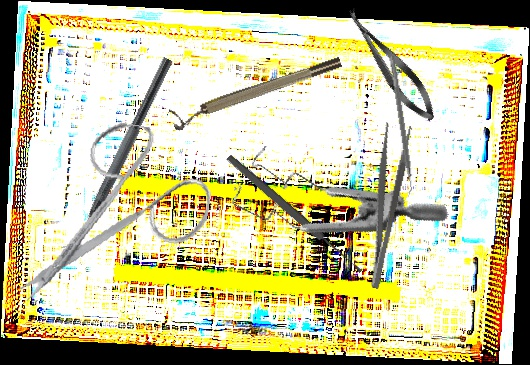Chopper: (58, 50, 174, 258)
Dressing Forceps: (353, 121, 415, 290)
Fixation Ring: (168, 54, 346, 132)
Iris Scissors: (17, 109, 221, 330)
Micro Scissor: (338, 2, 444, 128)
Spatula Surgical: (382, 55, 418, 199)
Speculum: (216, 90, 451, 295)
Surgical Spoon: (224, 152, 365, 277)
